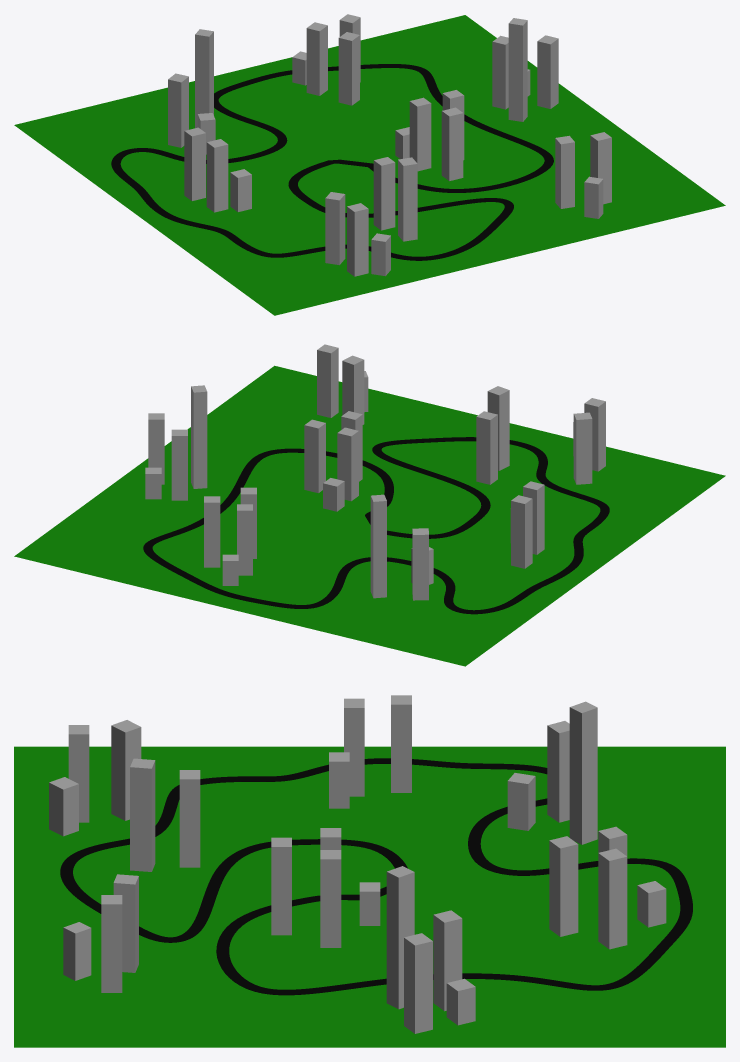
The model's file is Prototyp mapy.fbx.
3 views of the same model, one above another, from view 1: azimuth 30°, elevation 25°; view 2: azimuth 150°, elevation 25°; view 3: azimuth 270°, elevation 25° (orthographic). The views are drawn at different scales.
Visible parts, largest first — view 1: Płaszczyzna.001, Płaszczyzna.003, Sześcian.017, Sześcian.022, Sześcian.025, Sześcian.001, Sześcian.004, Sześcian.024, Sześcian.005, Sześcian.009, Sześcian.010, Sześcian.019 (+11 smaller); view 2: Płaszczyzna.001, Płaszczyzna.003, Sześcian.017, Sześcian.022, Sześcian.014, Sześcian.024, Sześcian.005, Sześcian.002, Sześcian, Sześcian.012, Sześcian.015, Sześcian.025 (+12 smaller); view 3: Płaszczyzna.001, Płaszczyzna.003, Sześcian.022, Sześcian.017, Sześcian.025, Sześcian.008, Sześcian.009, Sześcian.019, Sześcian.018, Sześcian.012, Sześcian.021, Sześcian.002 (+15 smaller).
Part boxes in pixels (x1,y1,x2,y2): Płaszczyzna.001: (14, 15, 725, 315); Płaszczyzna.003: (111, 64, 553, 260); Sześcian.017: (508, 18, 527, 121); Sześcian.022: (195, 29, 213, 128); Sześcian.025: (398, 157, 417, 241); Sześcian.001: (441, 107, 463, 180); Sześcian.004: (206, 139, 228, 212); Sześcian.024: (373, 157, 395, 230); Sześcian.005: (184, 127, 205, 200); Sześcian.009: (338, 32, 359, 105); Sześcian.010: (306, 22, 327, 95); Sześcian.019: (537, 35, 558, 108); Płaszczyzna.001: (14, 365, 725, 666); Płaszczyzna.003: (143, 437, 609, 614); Sześcian.017: (191, 385, 207, 488); Sześcian.022: (370, 494, 386, 598); Sześcian.014: (317, 344, 338, 417); Sześcian.024: (476, 411, 497, 484); Sześcian.005: (511, 495, 532, 568); Sześcian.002: (304, 419, 325, 493); Sześcian: (337, 427, 358, 501); Sześcian.012: (573, 412, 592, 484); Sześcian.015: (342, 355, 364, 424); Sześcian.025: (487, 386, 509, 470); Płaszczyzna.001: (14, 746, 725, 1047); Płaszczyzna.003: (60, 758, 692, 995); Sześcian.022: (569, 701, 597, 844); Sześcian.017: (386, 866, 414, 1009); Sześcian.025: (130, 758, 155, 871); Sześcian.008: (598, 848, 627, 949); Sześcian.009: (549, 836, 578, 936); Sześcian.019: (404, 933, 432, 1033); Sześcian.018: (433, 910, 462, 1011); Sześcian.012: (111, 720, 141, 820); Sześcian.021: (547, 721, 569, 822); Sześcian.002: (320, 850, 341, 947).
Size of the model in its own units: 15998 by 3684 by 15998.
